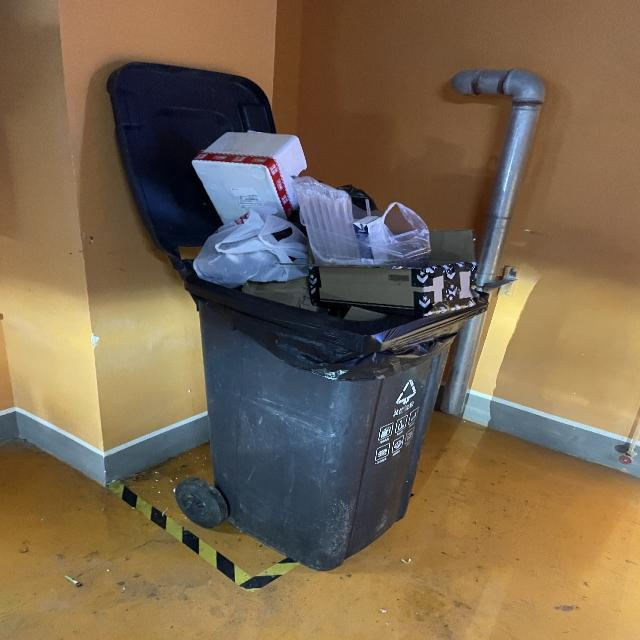overflow: (184, 130, 486, 572)
